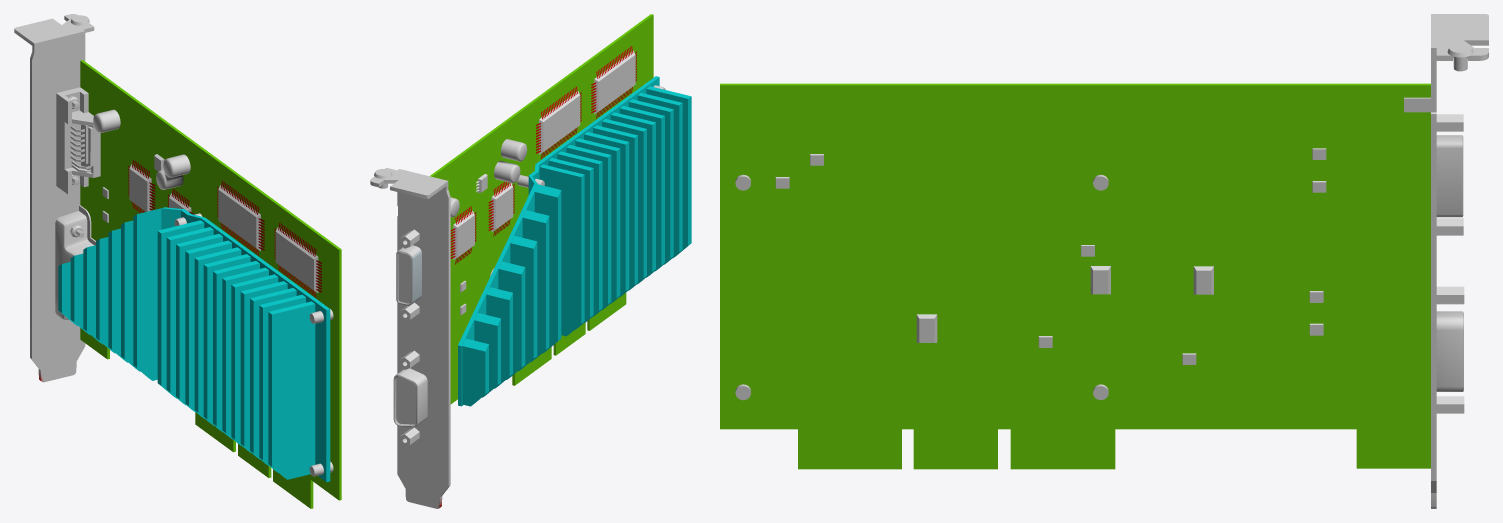
The model's file is vga_agp_f.fbx.
3 renders of one model, left to right at view 1: azimuth 30°, elevation 25°; view 2: azimuth 150°, elevation 25°; view 3: azimuth 270°, elevation 25°, orthographic. The views are drawn at different scales.
Visible parts, largest first — view 1: vga_agp_f; view 2: vga_agp_f; view 3: vga_agp_f.
Boxes of the visible parts, x1=… form: vga_agp_f: x1=14, y1=14, x2=341, y2=508; vga_agp_f: x1=370, y1=14, x2=691, y2=508; vga_agp_f: x1=720, y1=14, x2=1488, y2=508.
Size of the model in its own units: 2.27 by 10.3 by 15.19.
